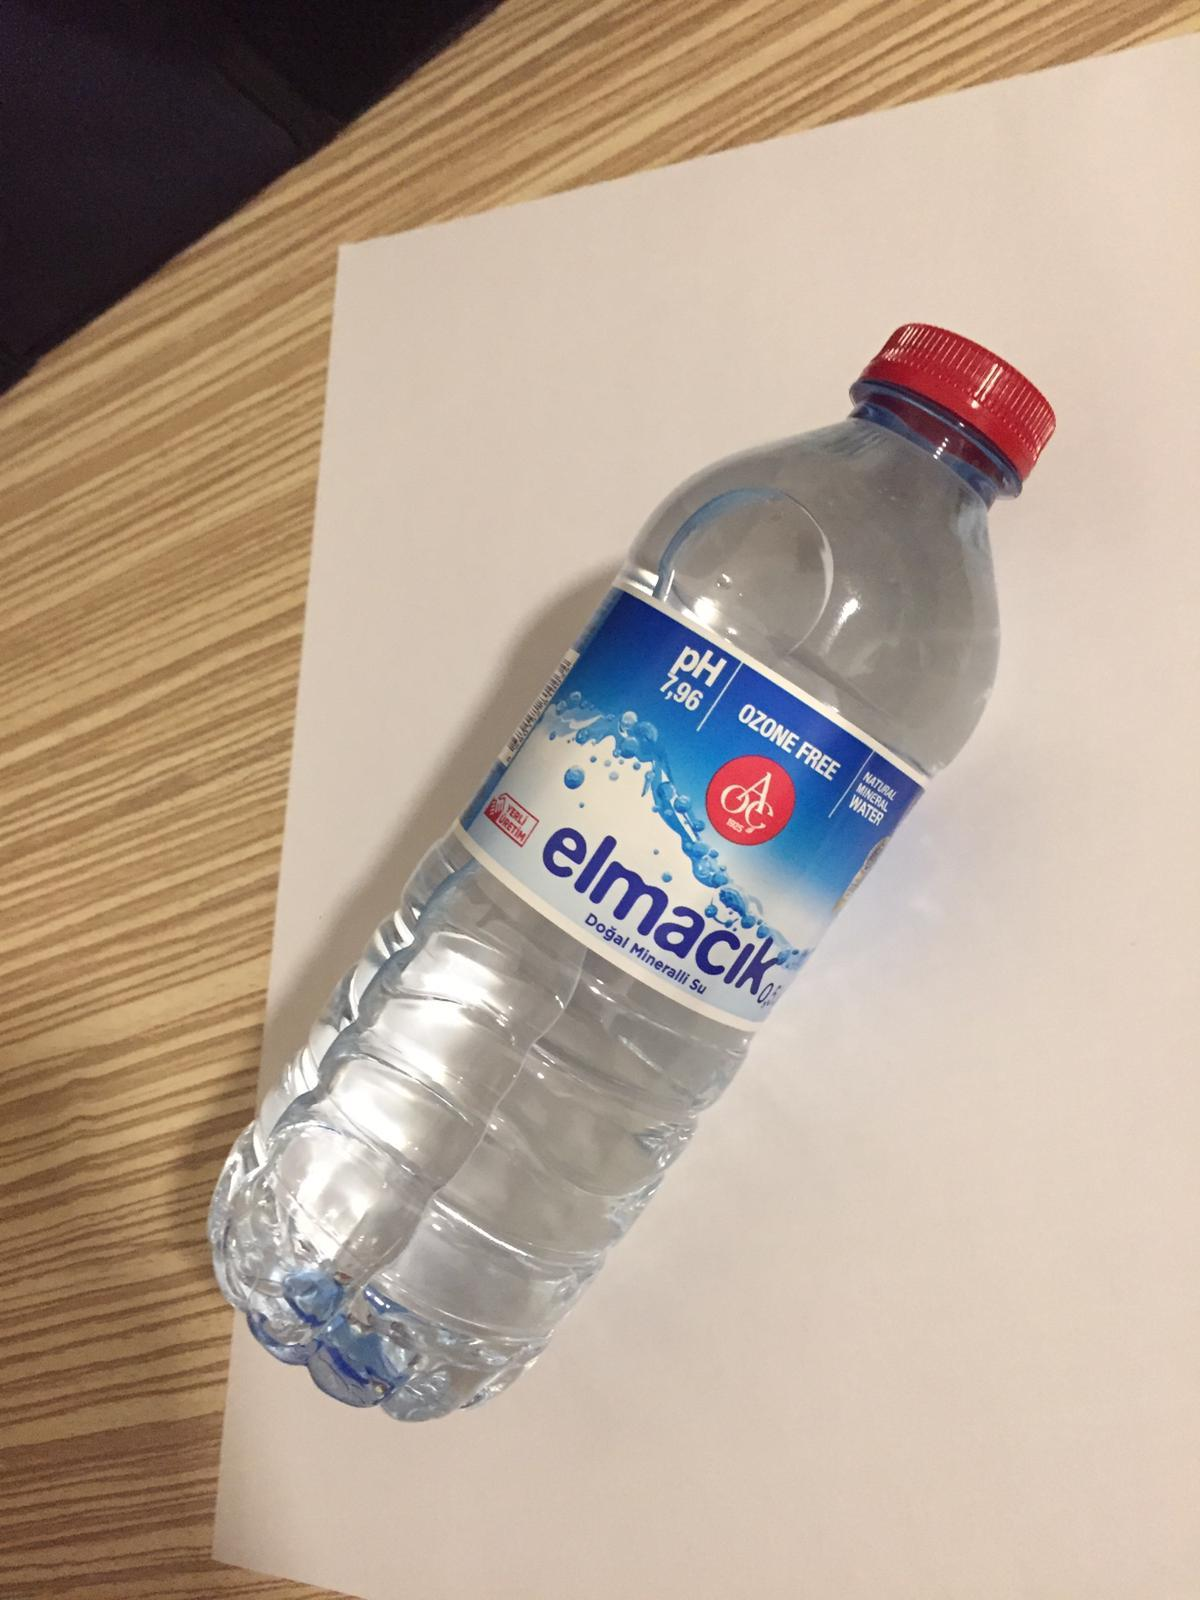bottle: (208, 317, 1063, 1425)
